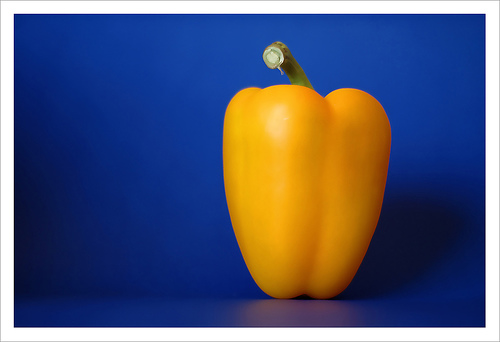capsicum: (216, 31, 388, 312)
